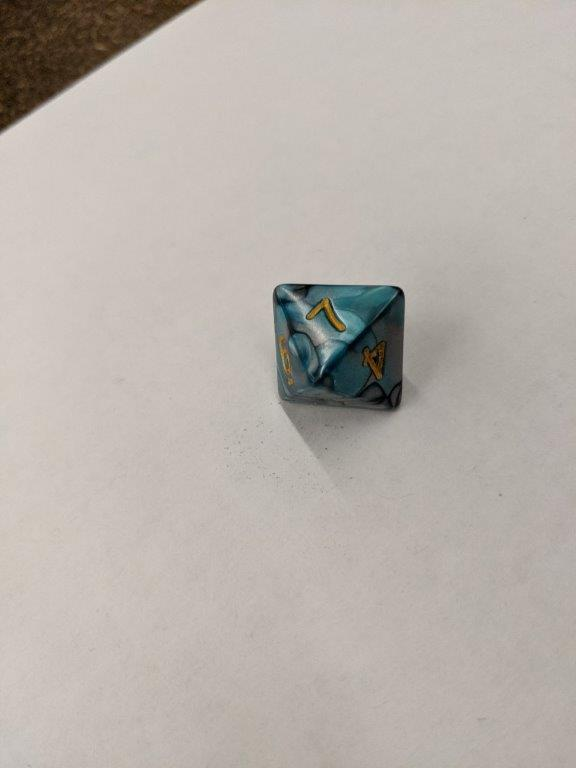d8-7: (270, 282, 406, 418)
